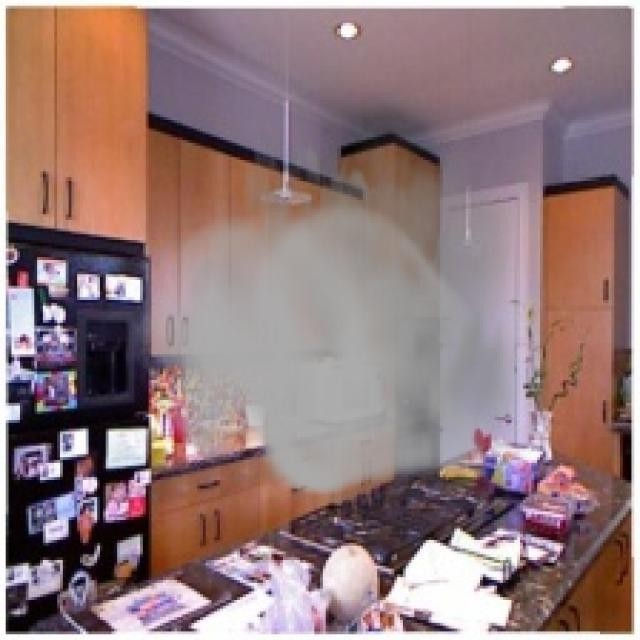Smoke: (143, 97, 540, 503)
